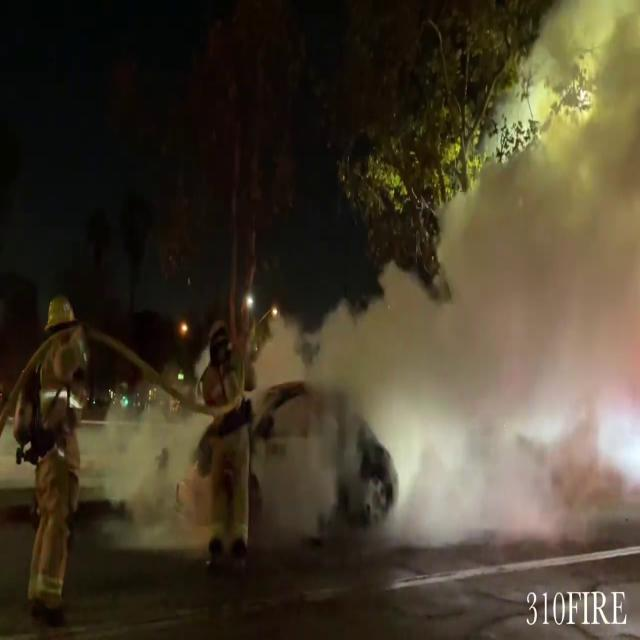Smoke: (273, 5, 640, 554)
